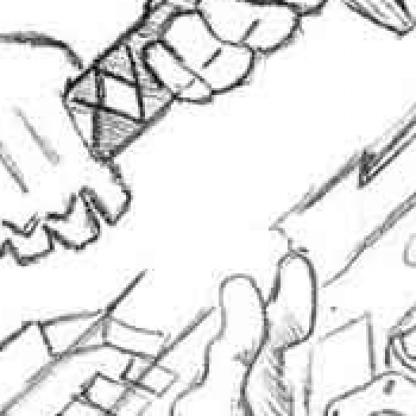gun: (224, 0, 414, 414)
